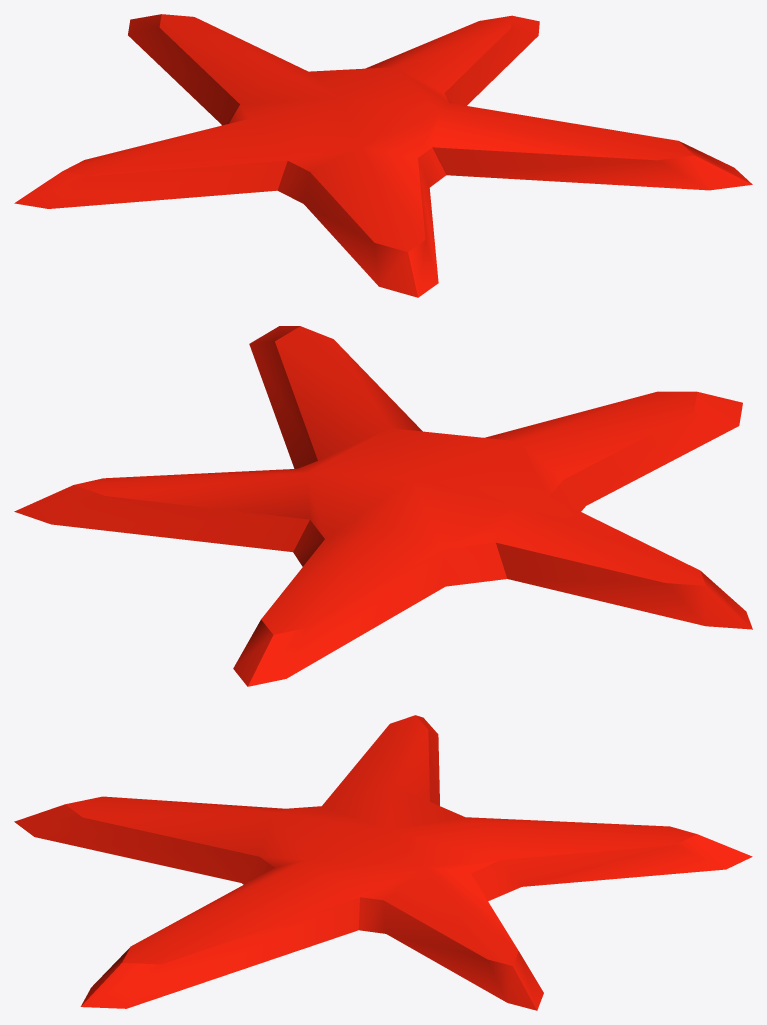
Rendered from SM_Seashell_02.FBX.
The picture shows the model from 3 angles, top to bottom: view 1: azimuth 30°, elevation 25°; view 2: azimuth 150°, elevation 25°; view 3: azimuth 270°, elevation 25°; orthographic projection. The views are drawn at different scales.
Visible parts, largest first — view 1: Starfish; view 2: Starfish; view 3: Starfish.
Boxes of the visible parts, x1=… form: Starfish: x1=14, y1=14, x2=752, y2=297; Starfish: x1=14, y1=326, x2=752, y2=686; Starfish: x1=14, y1=715, x2=752, y2=1010.
Bounding box in the file's own units: 4.48 × 0.3103 × 4.77.
